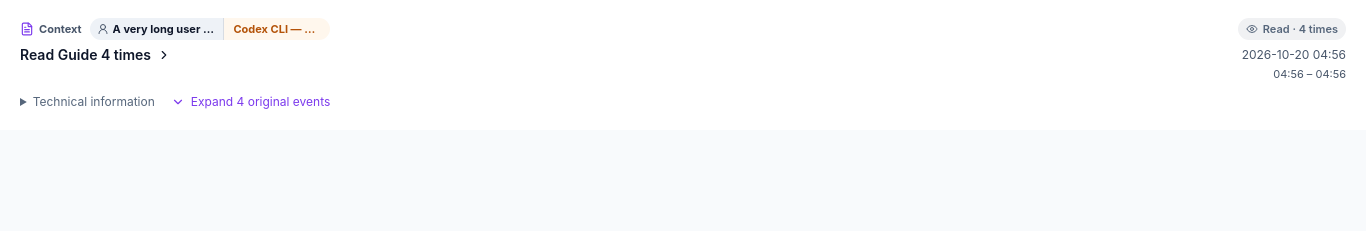
Test: repeated read disclosure › loads lazily, keeps the group after an error, retries, and returns focus on collapse
Expected: the element with class "activity-entry__time-range" reads "04:56 – 04:56", [1273,66,1346,82]
Click the button "Expand 4 original events" at (251, 102), box [171,90,330,114]
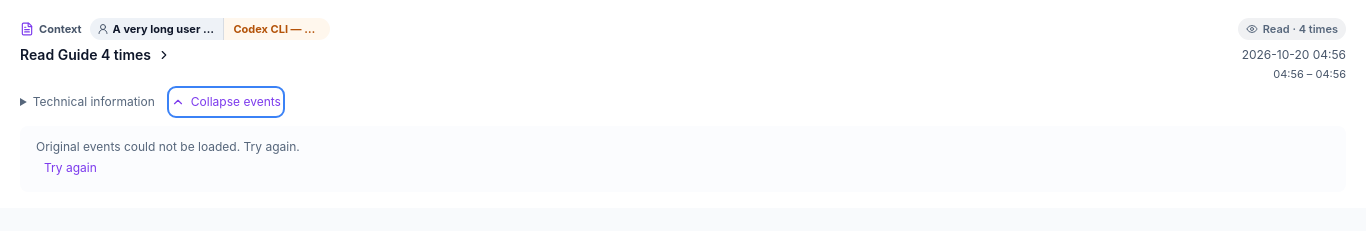
Expected: the link "Read Guide 4 times" is shown, [20,44,171,68]
Expected: the message shows "Original events could not be loaded", [36,139,300,154]
Expected: the button named "Expand 4 original events" is expanded, [171,90,281,114]
Click the button "Try again" at (70, 168), box [36,156,105,180]
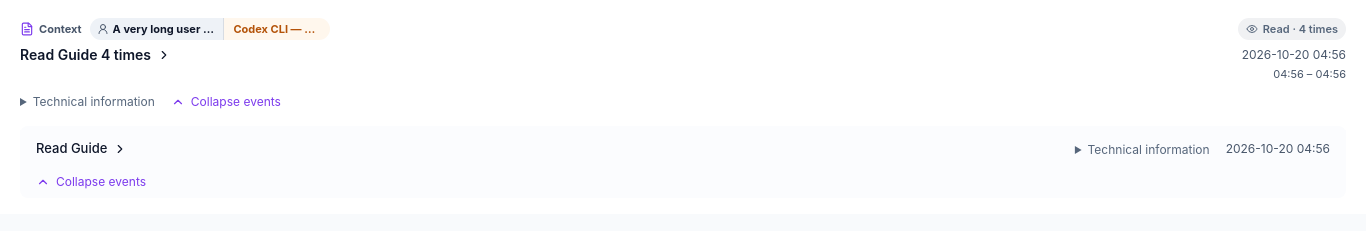
Expected: the link "Read Guide" is shown, [36,138,127,162]
Expected: the number of elements with class "activity-feed-entry" is 2
Click the 2nd button "Collapse events" at (91, 182), box [28,170,154,194]
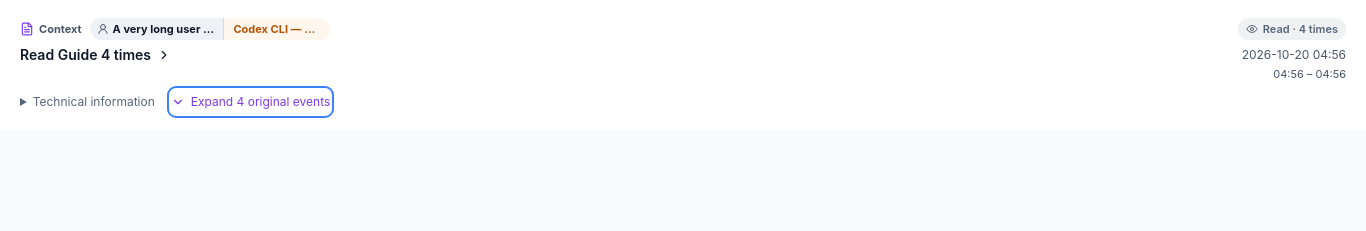
Expected: the button named "Collapse events" is collapsed
Click the button named "Collapse events" at (251, 102), box [171,90,330,114]
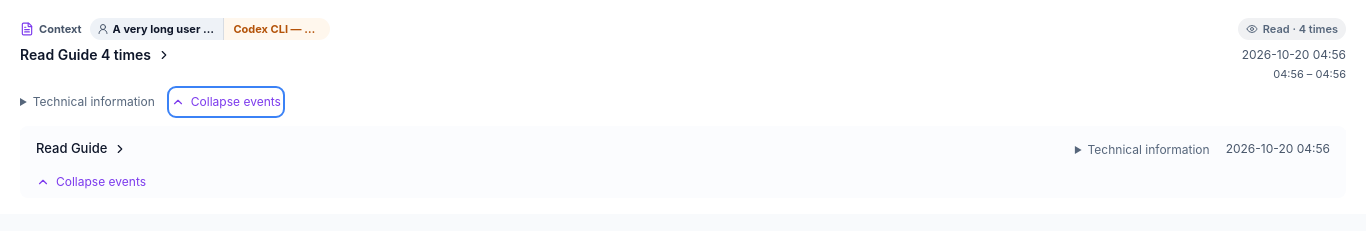
Expected: the link "Read Guide" is shown, [36,138,127,162]
